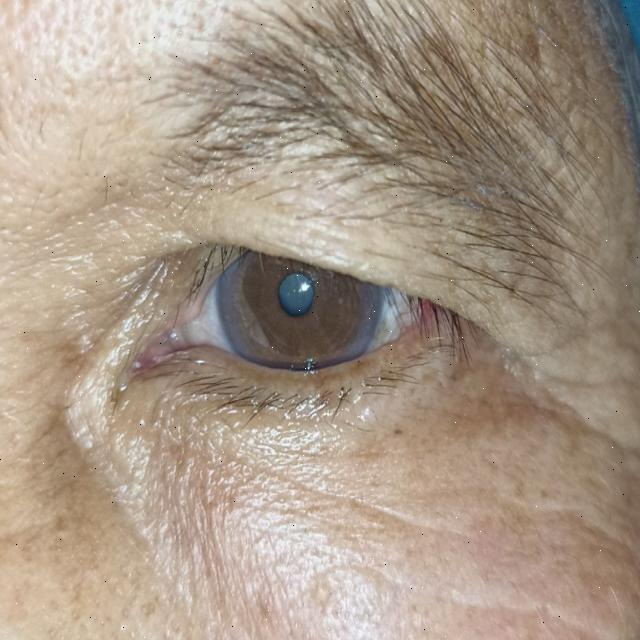Cataract: (212, 192, 384, 394)
